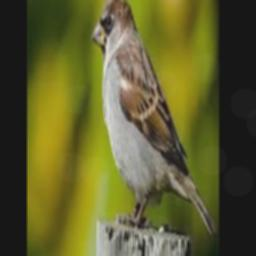Sparrow: (92, 0, 217, 234)
